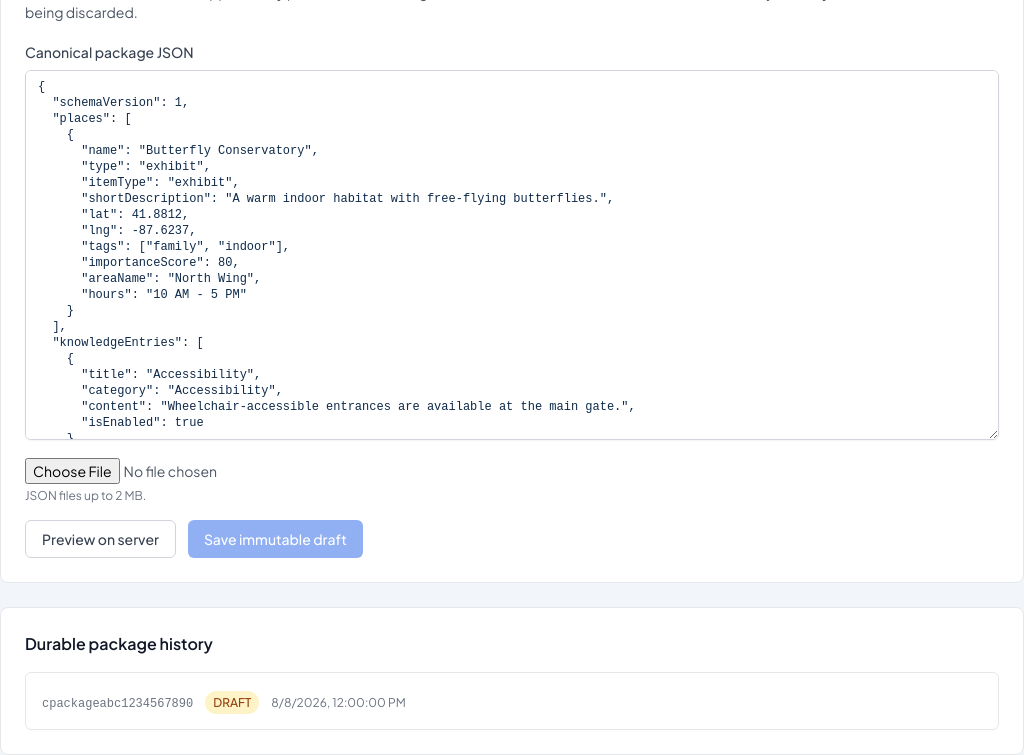
Test: venue package workspace › renders complete semantic evidence from a selected package without requesting a new preview
The image size is (1024, 755).
(page scrolled)
Step 1. Click the text "cpackageabc1234567890" → [118, 704], box left=42, top=697, right=193, bottom=711
(page scrolled)
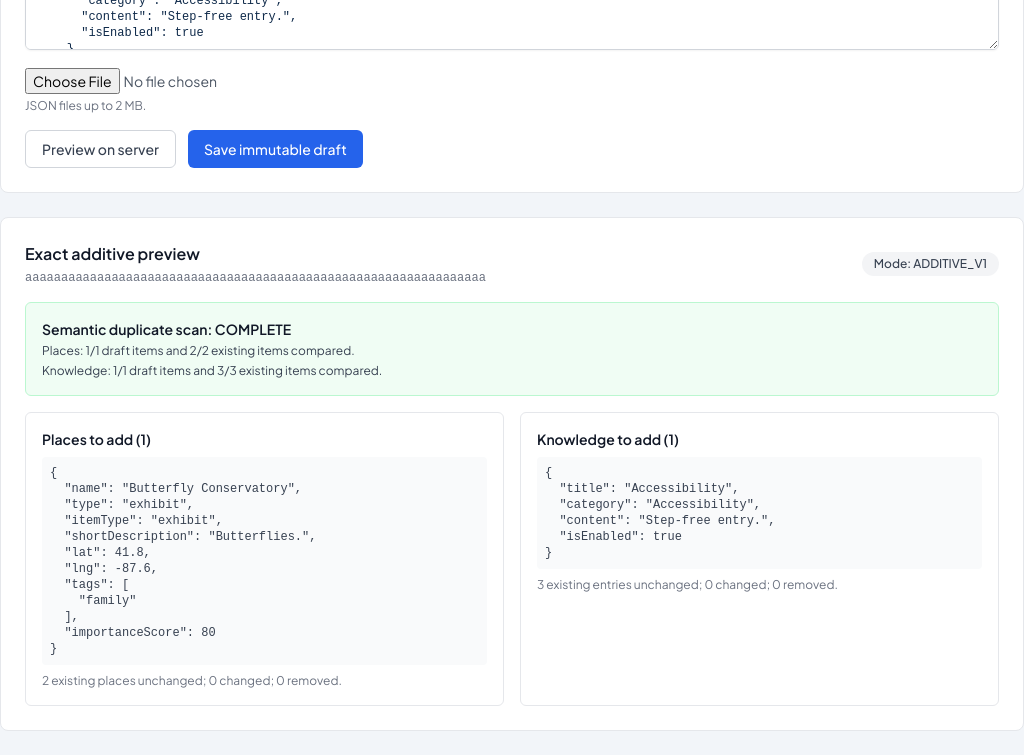
Expected: the heading "Semantic duplicate scan: COMPLETE" is shown, left=42, top=320, right=291, bottom=338
Expected: the text "Places: 1/1 draft items and 2/2 existing items compared." is shown, left=42, top=343, right=355, bottom=358
Expected: the text "Knowledge: 1/1 draft items and 3/3 existing items compared." is shown, left=42, top=363, right=382, bottom=378
